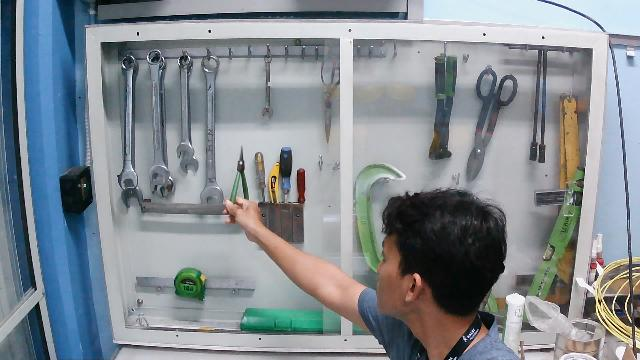tang_cucut_lancip_2: (227, 142, 252, 230)
